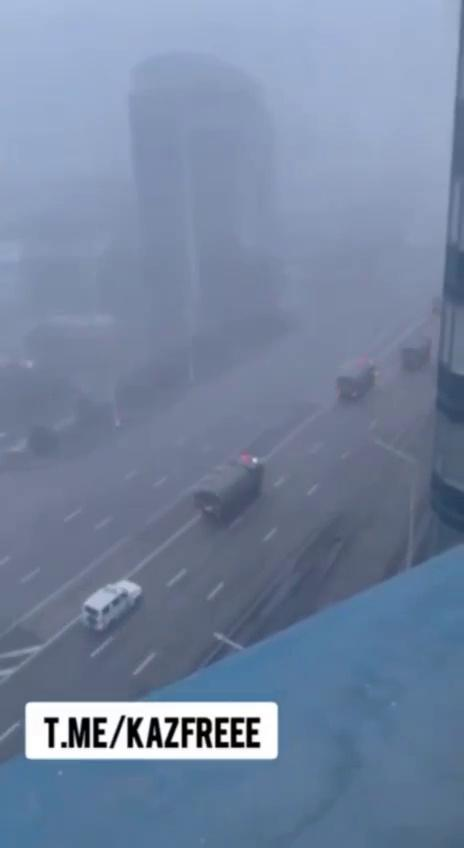car: (81, 579, 142, 633)
truck: (192, 454, 263, 522), (335, 357, 374, 400), (398, 334, 435, 376)
